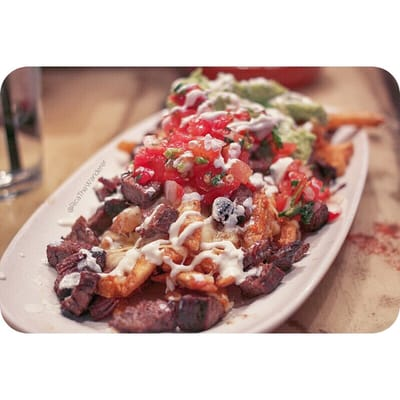pizza: (0, 67, 46, 202)
